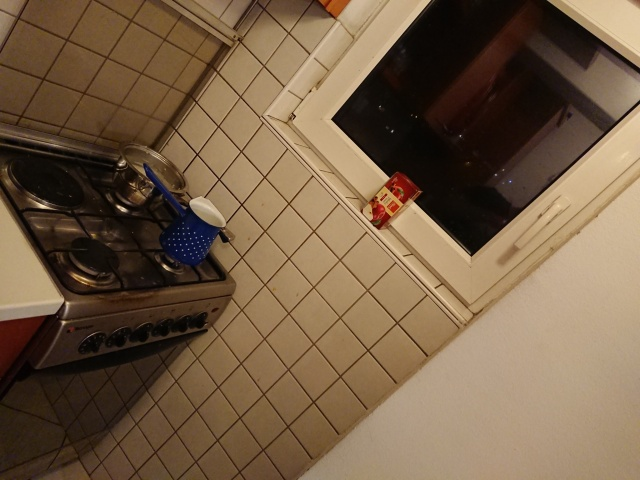Franck Apple Cinnamon Tea 60g: (357, 168, 426, 232)
